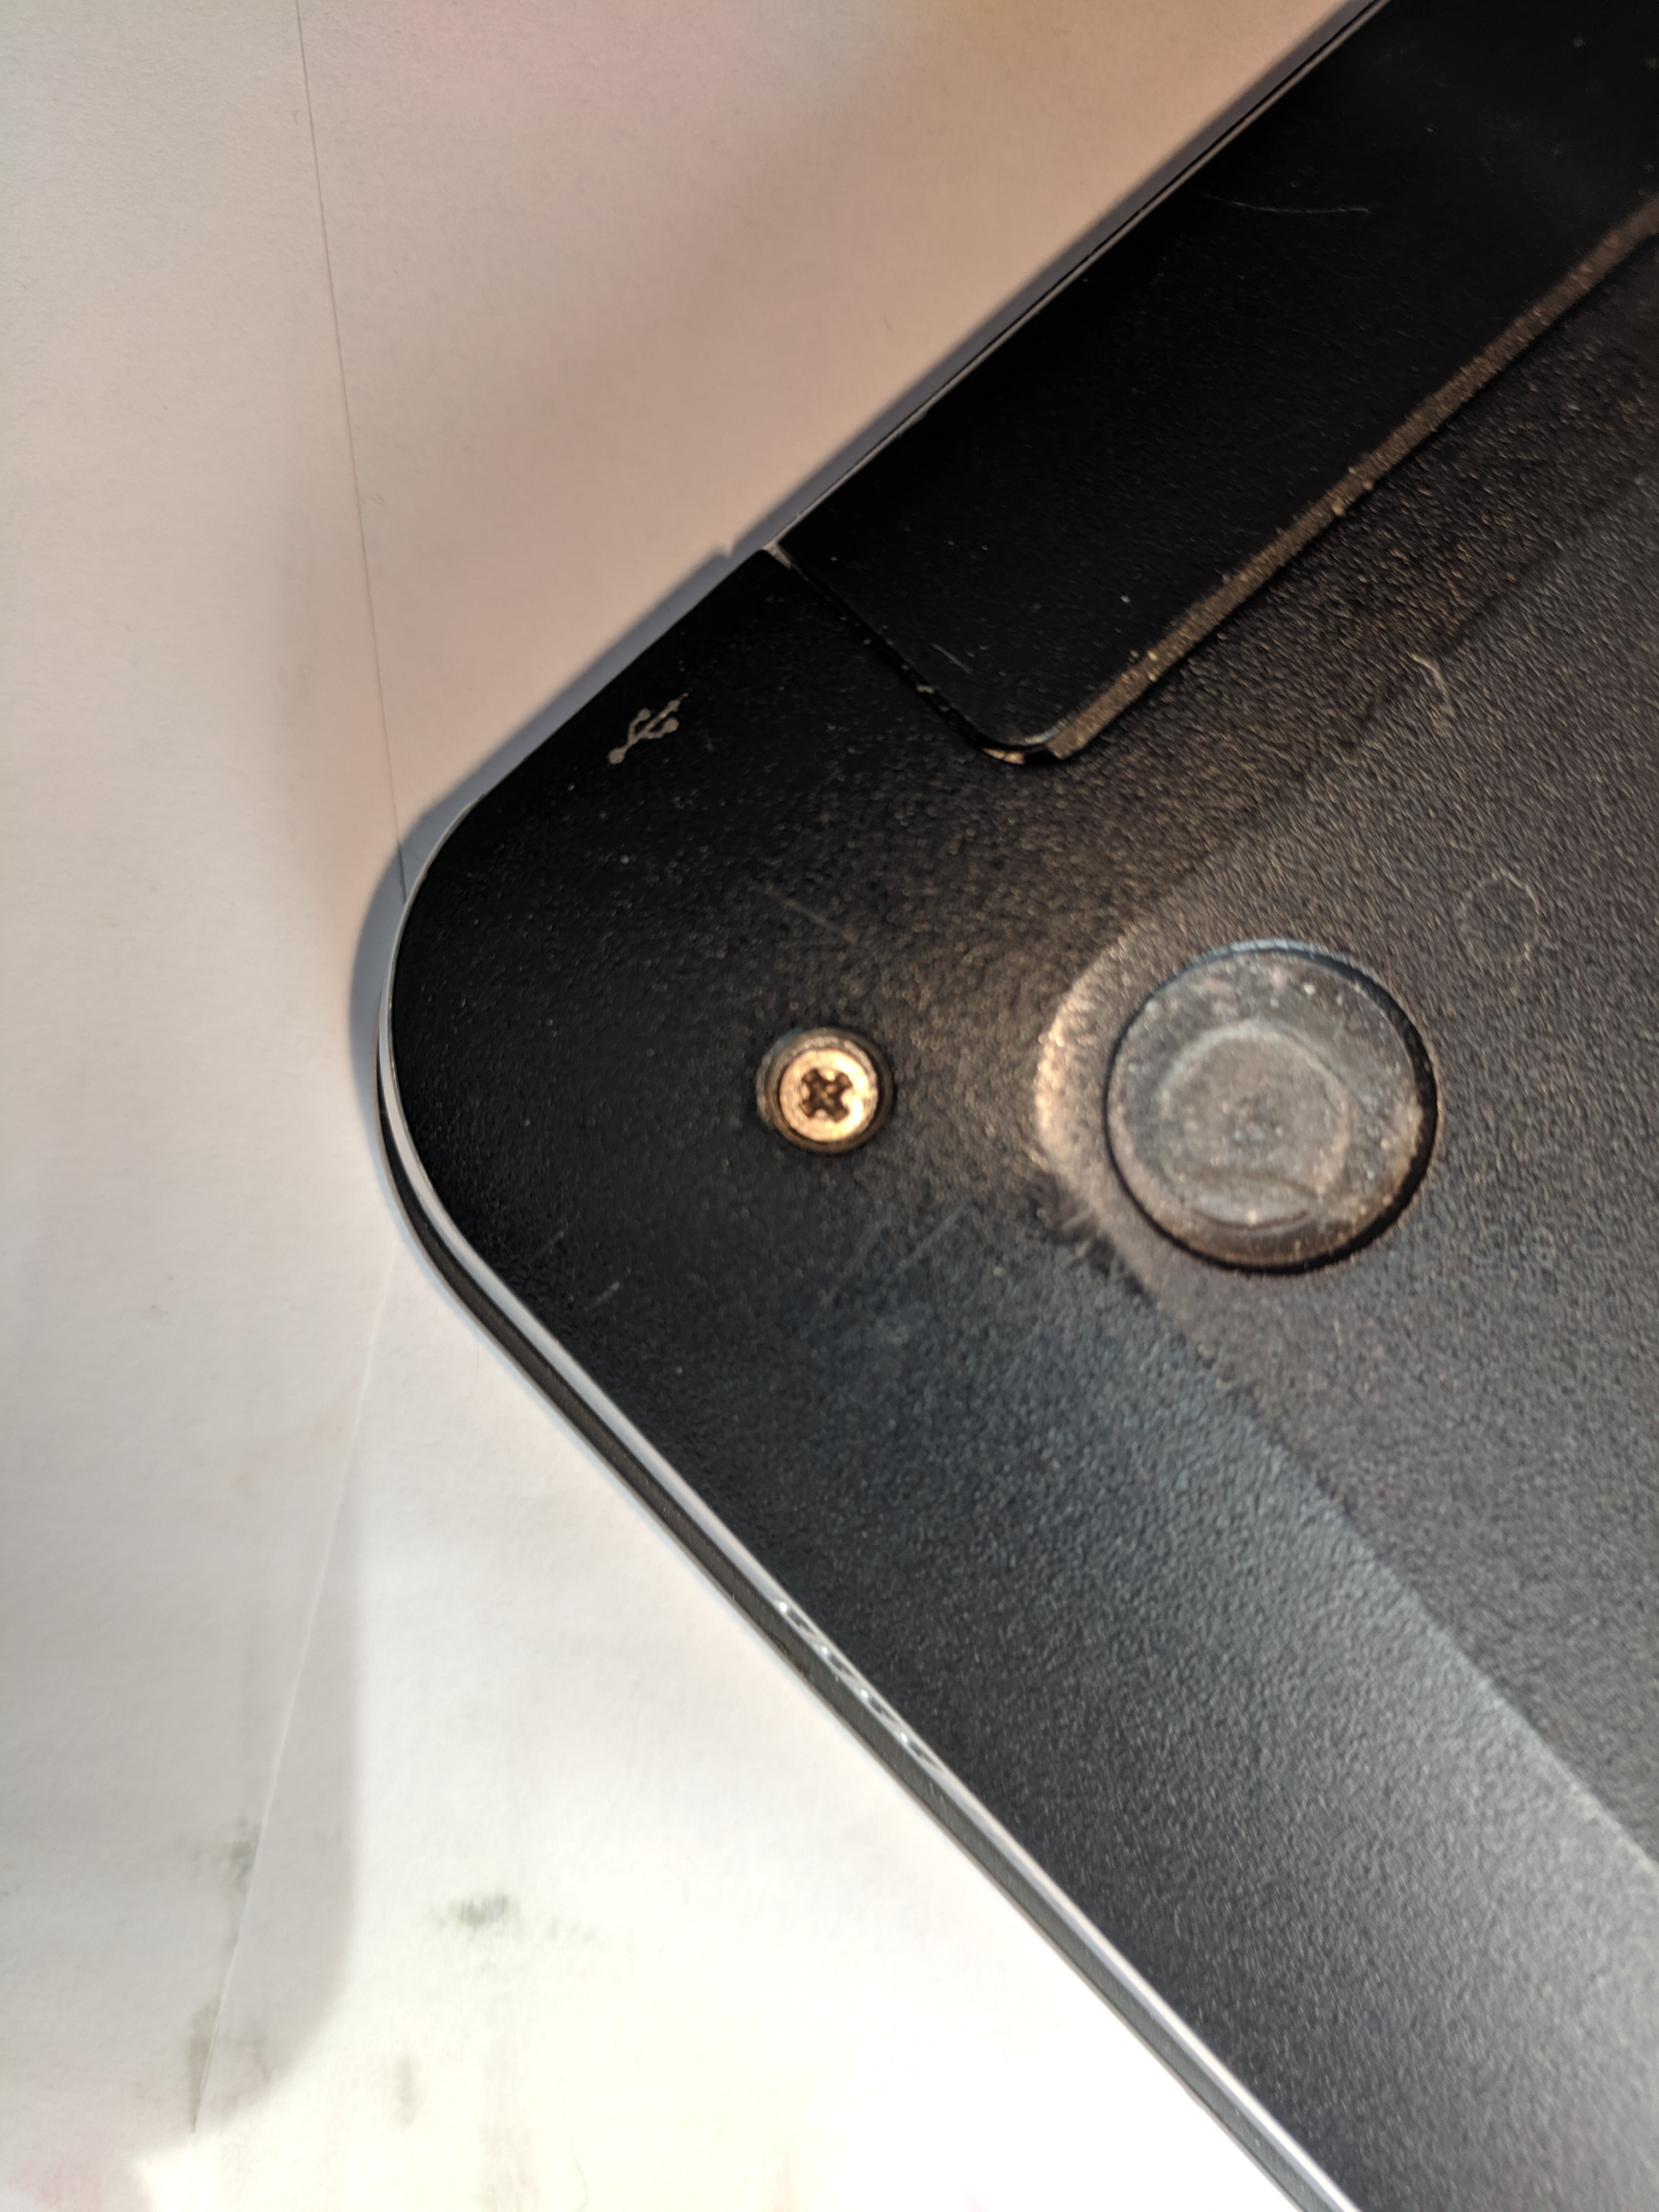cross_recessed_screw: (751, 1008, 889, 1158)
